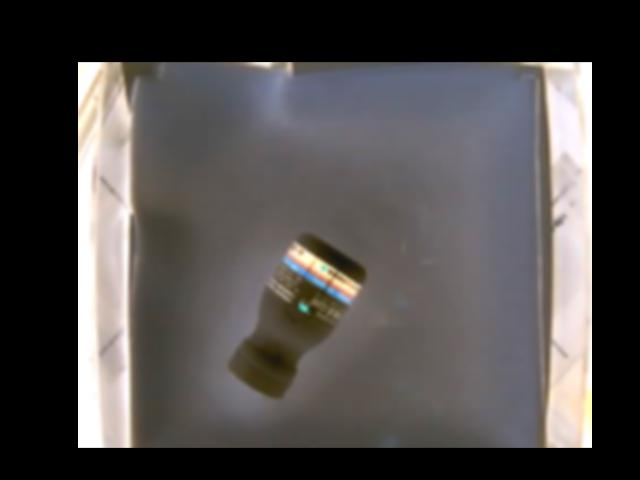Bottle: (232, 232, 367, 403)
